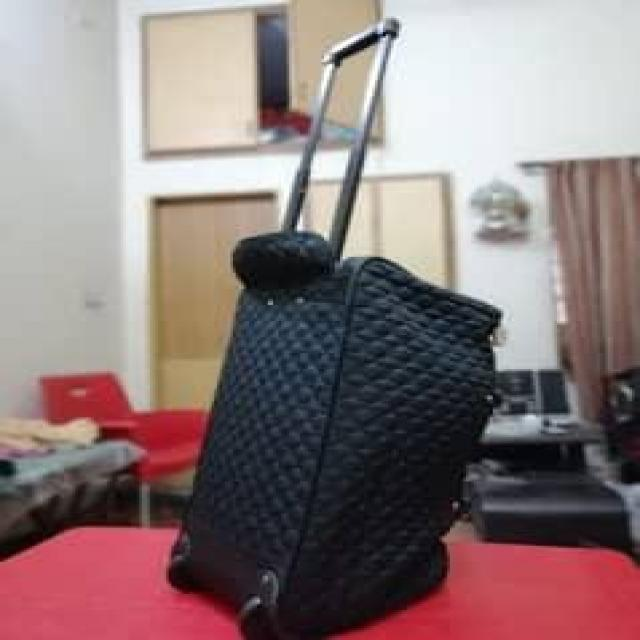luggage: (150, 224, 506, 640)
